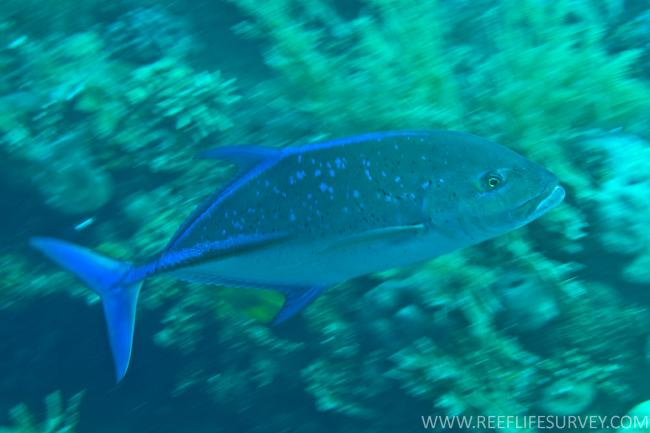fish: (29, 130, 566, 385)
